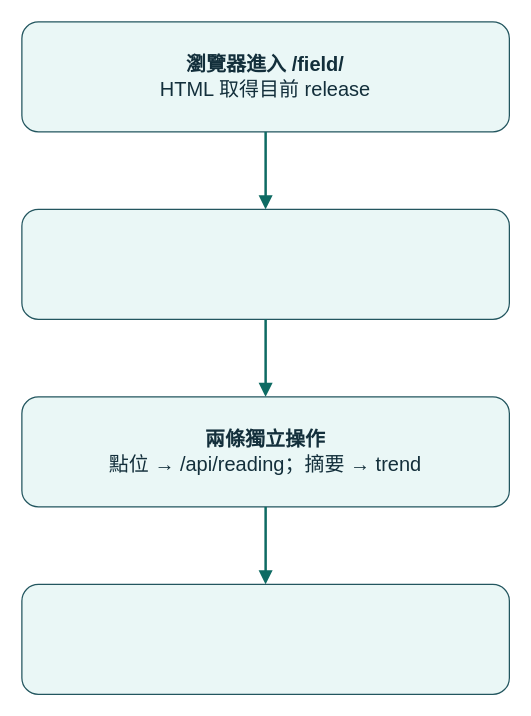
Some shapes in this 531 by 716 pixel diagram are drawn without their labels. The centre of each missing label's shape, as x and y in pixels:
更新畫面 JSON 點位或合成摘要，可各自失敗: [265,638]
首屏載入 入口 JS、runtime、CSS 及圖示: [265,263]
